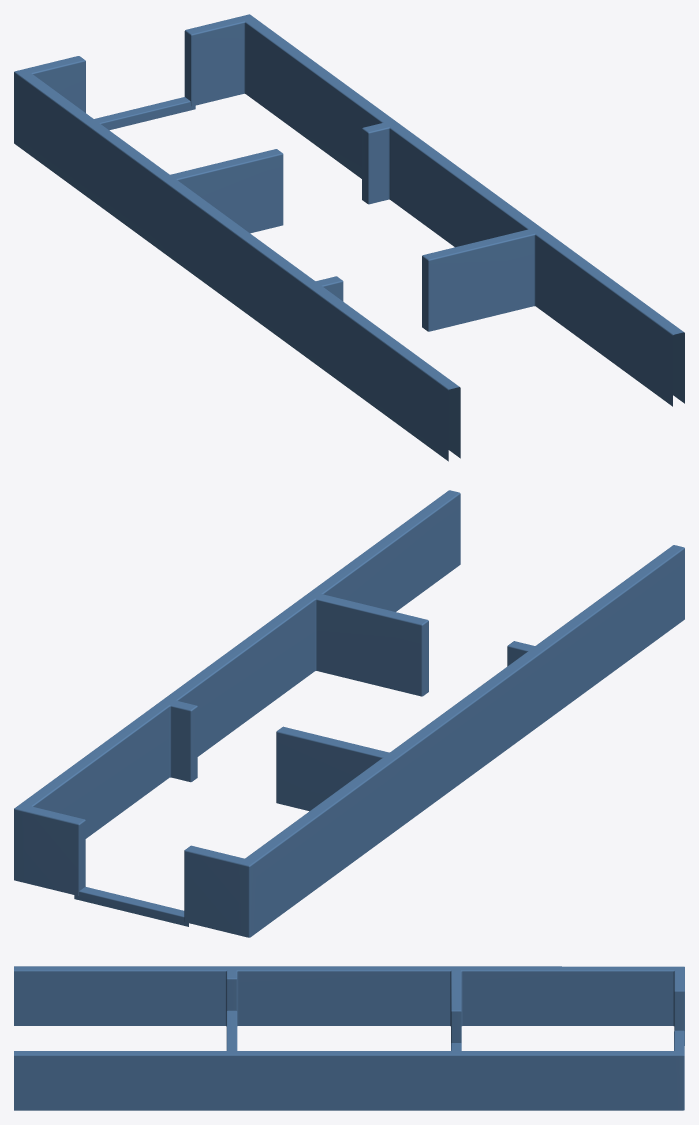
Rendered from Level_1_Wall_A.fbx.
3 views of the same model, one above another, from view 1: azimuth 30°, elevation 25°; view 2: azimuth 150°, elevation 25°; view 3: azimuth 270°, elevation 25° (orthographic). The views are drawn at different scales.
Parts seen in each view (by area): view 1: Level_1_Wall_A; view 2: Level_1_Wall_A; view 3: Level_1_Wall_A.
Part boxes in pixels (bbox=[...]): Level_1_Wall_A: bbox=[14, 14, 684, 461]; Level_1_Wall_A: bbox=[14, 490, 684, 937]; Level_1_Wall_A: bbox=[14, 966, 684, 1110].
Bounding box in the file's own units: 5.62 × 1.73 × 17.91.
